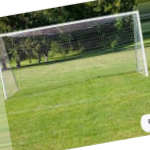goals: (1, 8, 150, 100)
